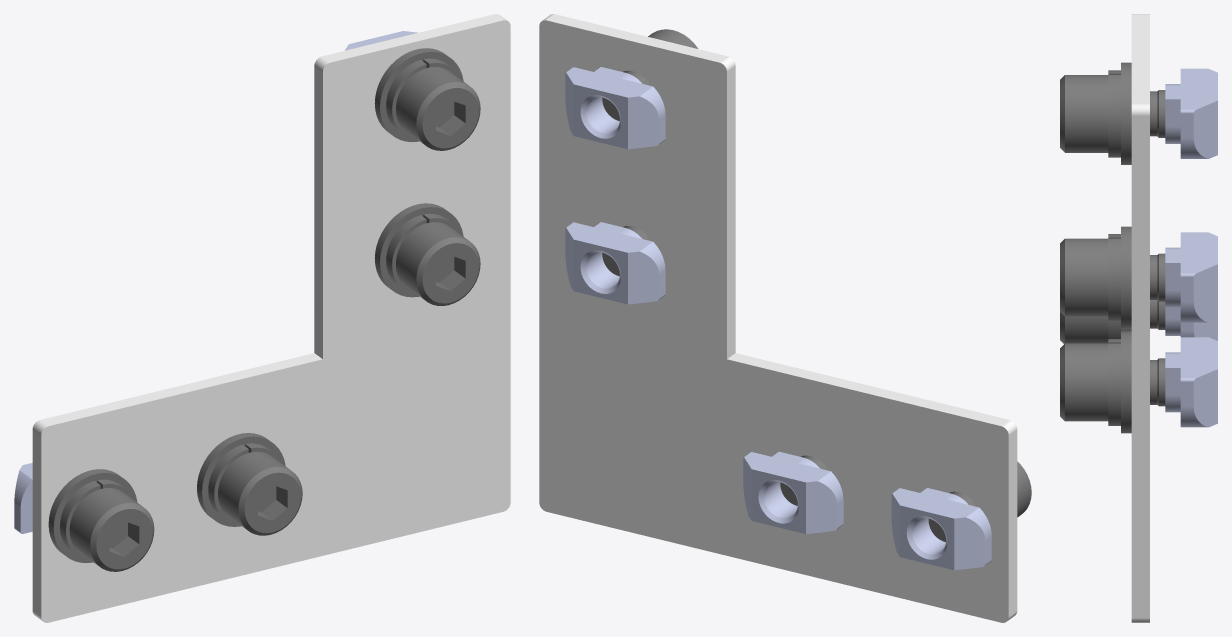
Rendered from TPGM-TPGM-4010-4040L-ZP.glb.
3 views of the same model, side by side, from view 1: azimuth 30°, elevation 25°; view 2: azimuth 150°, elevation 25°; view 3: azimuth 270°, elevation 25° (orthographic). The views are drawn at different scales.
Parts seen in each view (by area): view 1: NAUO1, NAUO8, NAUO4, NAUO6, NAUO2, NAUO9; view 2: NAUO1, NAUO3, NAUO5, NAUO9, NAUO7, NAUO8, NAUO2; view 3: NAUO1, NAUO4, NAUO6, NAUO2, NAUO5, NAUO7, NAUO3, NAUO8, NAUO9.
Boxes of the visible parts, x1,y1,x2,y2 form: NAUO1: [32, 14, 510, 622]; NAUO8: [48, 469, 154, 571]; NAUO4: [374, 203, 480, 305]; NAUO6: [197, 433, 302, 535]; NAUO2: [374, 48, 480, 150]; NAUO9: [14, 463, 32, 533]; NAUO1: [539, 14, 1017, 622]; NAUO3: [565, 67, 665, 149]; NAUO5: [565, 222, 665, 304]; NAUO9: [891, 488, 991, 570]; NAUO7: [743, 451, 843, 533]; NAUO8: [928, 461, 1031, 542]; NAUO2: [602, 29, 698, 121]; NAUO1: [1131, 14, 1149, 622]; NAUO4: [1060, 226, 1165, 328]; NAUO6: [1060, 331, 1165, 433]; NAUO2: [1060, 62, 1165, 164]; NAUO5: [1165, 232, 1217, 322]; NAUO7: [1165, 337, 1217, 427]; NAUO3: [1165, 68, 1217, 158]; NAUO8: [1060, 300, 1165, 343]; NAUO9: [1165, 307, 1217, 340].
Size of the model in its own units: 0.095 by 0.095 by 0.0262.
